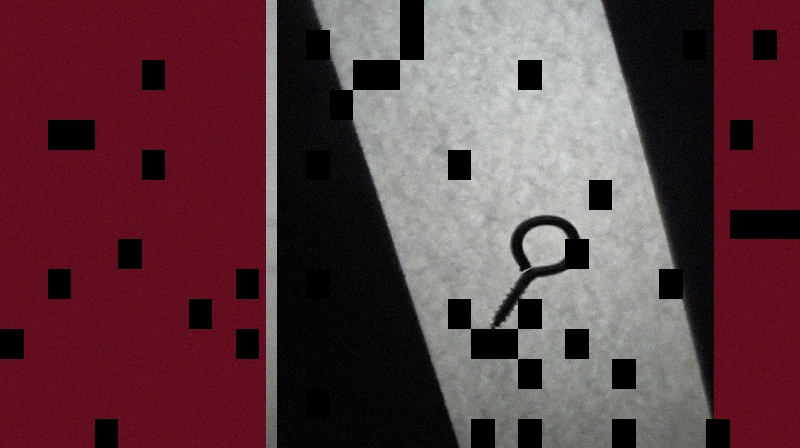O001: (487, 211, 582, 333)
